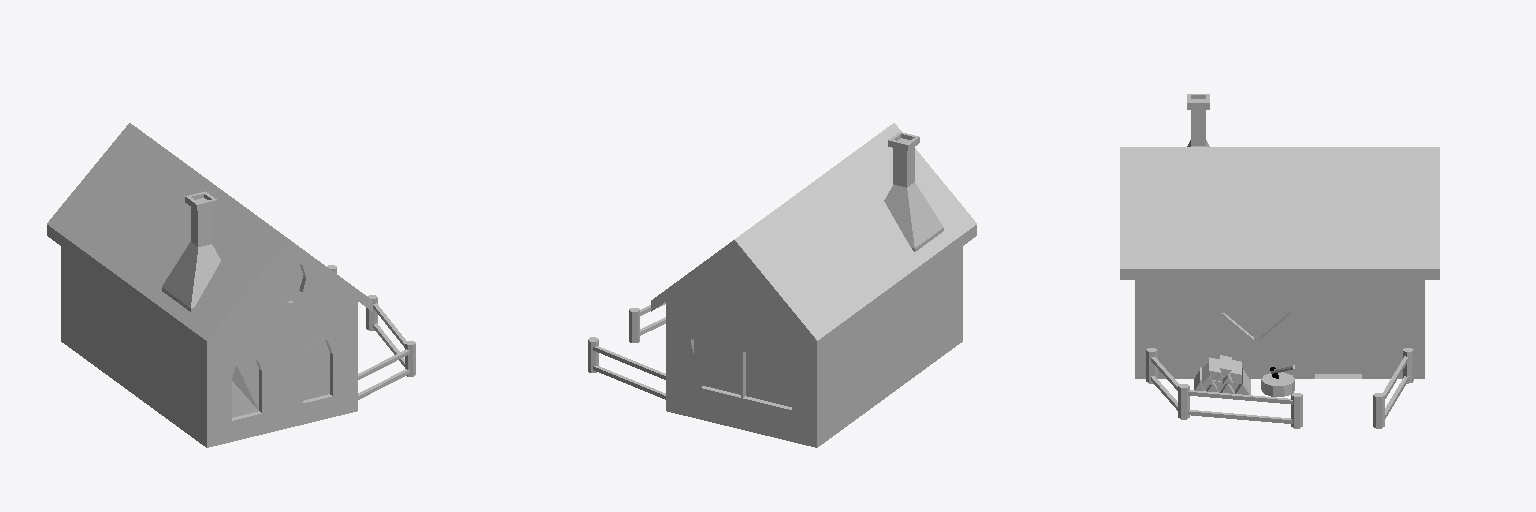
The model's file is LoggersHut.obj.
The picture shows the model from 3 angles: view 1: azimuth 30°, elevation 25°; view 2: azimuth 150°, elevation 25°; view 3: azimuth 270°, elevation 25°; orthographic projection.
Parts seen in each view (by area): view 1: Hut, Roof, Chimney; view 2: Hut, Roof, Chimney; view 3: Roof, Hut, Chimney, Stump, Beam.004, Beam.003.
Boxes of the visible parts, x1,y1,x2,y2 form: Hut: [61, 246, 357, 447]; Roof: [47, 123, 372, 352]; Chimney: [162, 191, 220, 311]; Hut: [666, 246, 962, 447]; Roof: [651, 123, 976, 352]; Chimney: [884, 132, 943, 251]; Roof: [1120, 147, 1439, 279]; Hut: [1135, 280, 1424, 378]; Chimney: [1187, 94, 1209, 146]; Stump: [1261, 372, 1294, 396]; Beam.004: [1188, 410, 1292, 423]; Beam.003: [1188, 390, 1292, 404].
Bounding box in the file's own units: 25.7 × 21.04 × 27.5.